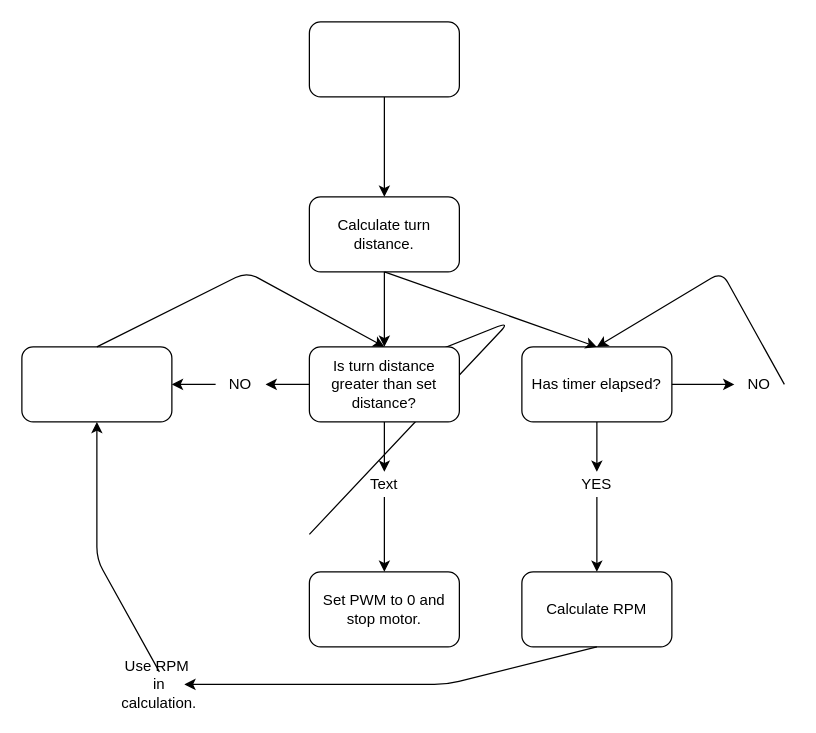
Image size: 816x733. Some labels were removed from this diagram. The shapes that lost their labels are listed below. From the top down, each one's centre as x and y in pixels, then its label:
At (383,59): "Void Loop()".
At (96,384): "Calculate new PWM + update motor.".
